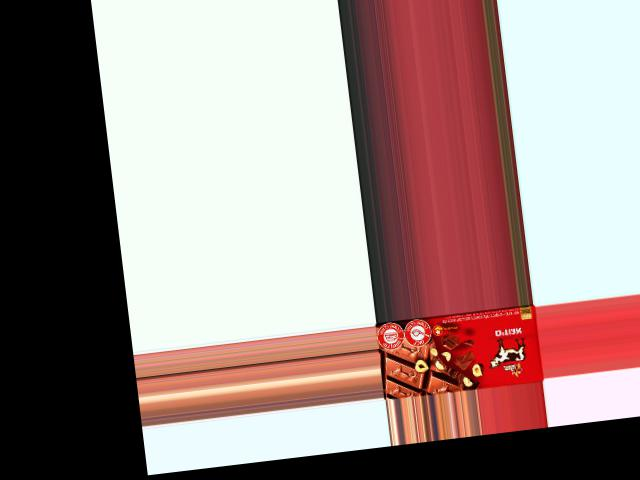chocolate: (376, 306, 544, 399)
